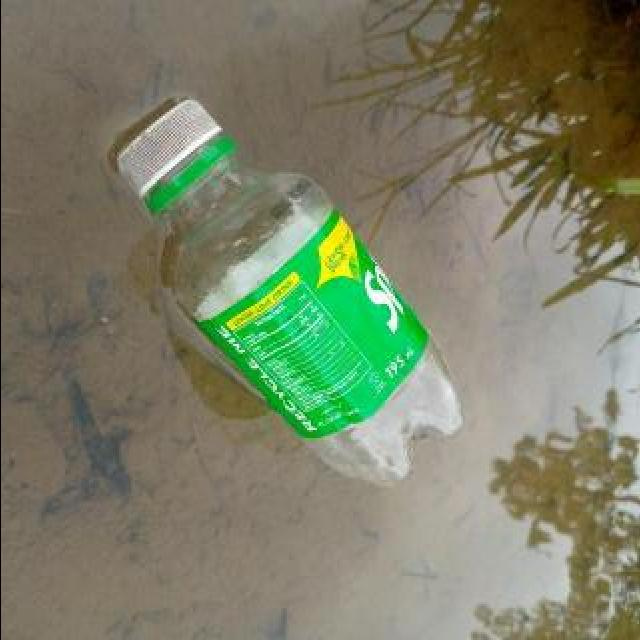Bottle: (108, 91, 464, 494)
